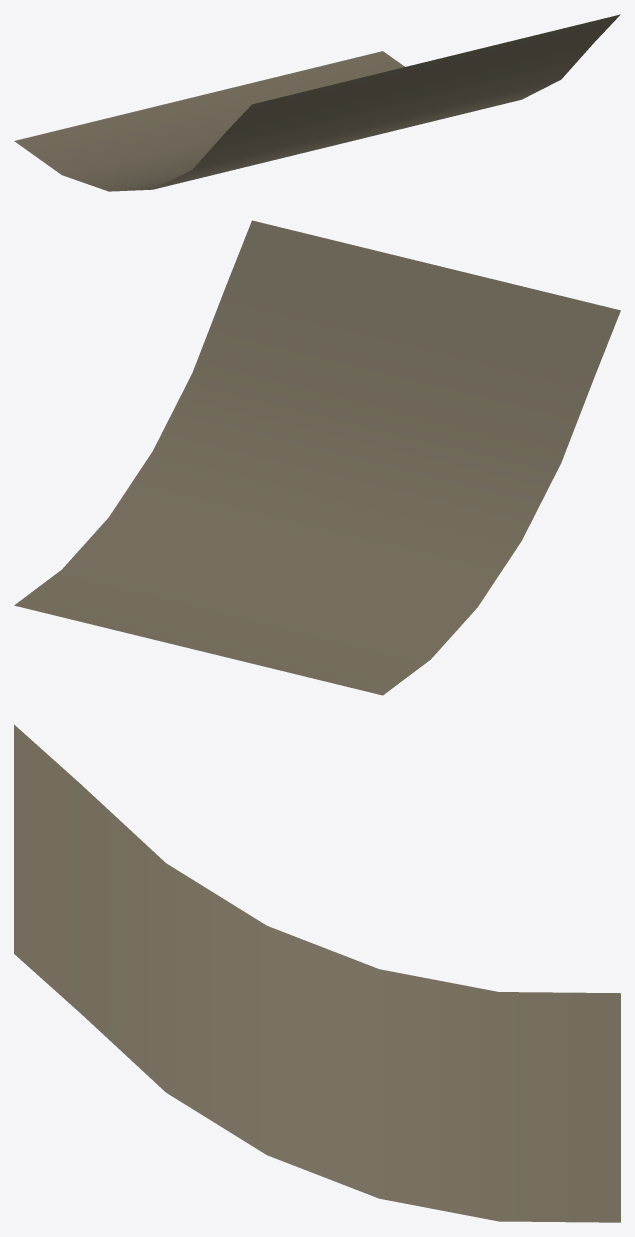
Rendered from SM_wall_int_top_01.fbx.
3 renders of one model, top to bottom at view 1: azimuth 30°, elevation 25°; view 2: azimuth 150°, elevation 25°; view 3: azimuth 270°, elevation 25°, orthographic. The views are drawn at different scales.
Parts seen in each view (by area): view 1: wall_int_top_01; view 2: wall_int_top_01; view 3: wall_int_top_01.
Boxes of the visible parts, box(x1,y1,x2,y2) form: wall_int_top_01: box(14, 14, 620, 191); wall_int_top_01: box(14, 220, 620, 695); wall_int_top_01: box(14, 724, 620, 1222).
Bounding box in the file's own units: 100 × 54.83 × 112.
